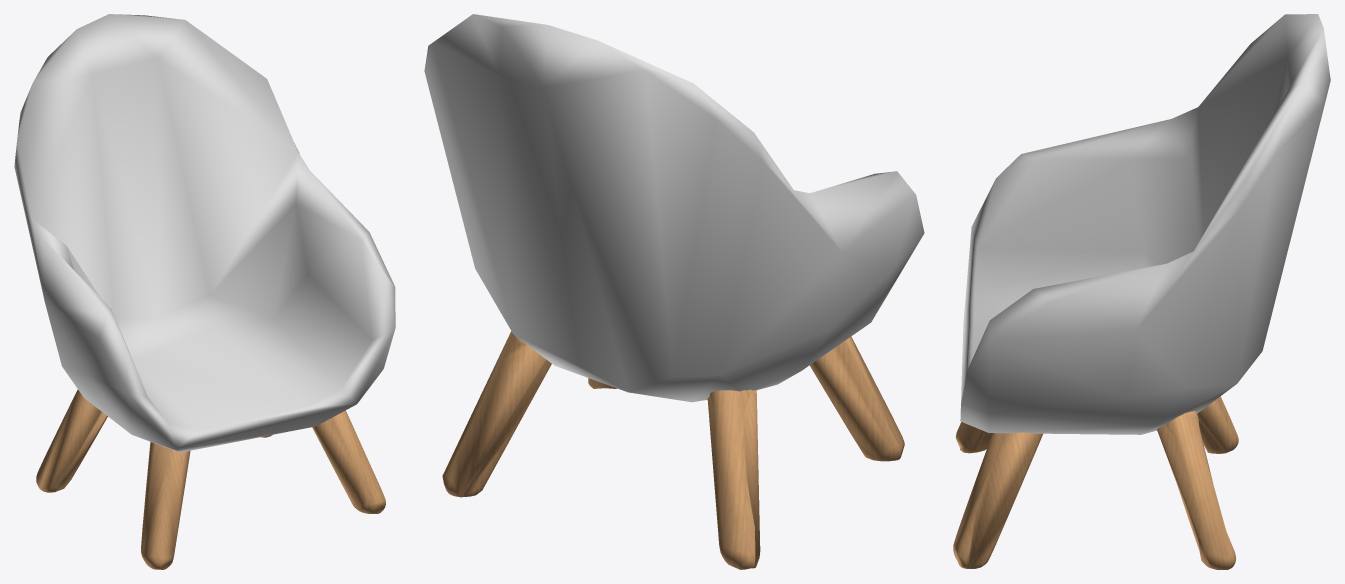
Rendered from Single_chair.glb.
The picture shows the model from 3 angles, left to right: view 1: azimuth 30°, elevation 25°; view 2: azimuth 150°, elevation 25°; view 3: azimuth 270°, elevation 25°; orthographic projection. The views are drawn at different scales.
Parts seen in each view (by area): view 1: 3d66-Editable_Poly-22615270-100, 3d66-Editable_Poly-22615270-101; view 2: 3d66-Editable_Poly-22615270-100, 3d66-Editable_Poly-22615270-101; view 3: 3d66-Editable_Poly-22615270-100, 3d66-Editable_Poly-22615270-101.
Boxes of the visible parts, bbox=[...] form: 3d66-Editable_Poly-22615270-100: bbox=[14, 14, 395, 452]; 3d66-Editable_Poly-22615270-101: bbox=[36, 389, 385, 569]; 3d66-Editable_Poly-22615270-100: bbox=[424, 14, 924, 402]; 3d66-Editable_Poly-22615270-101: bbox=[442, 331, 904, 569]; 3d66-Editable_Poly-22615270-100: bbox=[960, 14, 1330, 434]; 3d66-Editable_Poly-22615270-101: bbox=[953, 396, 1238, 569].
Size of the model in its own units: 0.705 by 0.9683 by 0.6892.
2 materials, 1 textured.
